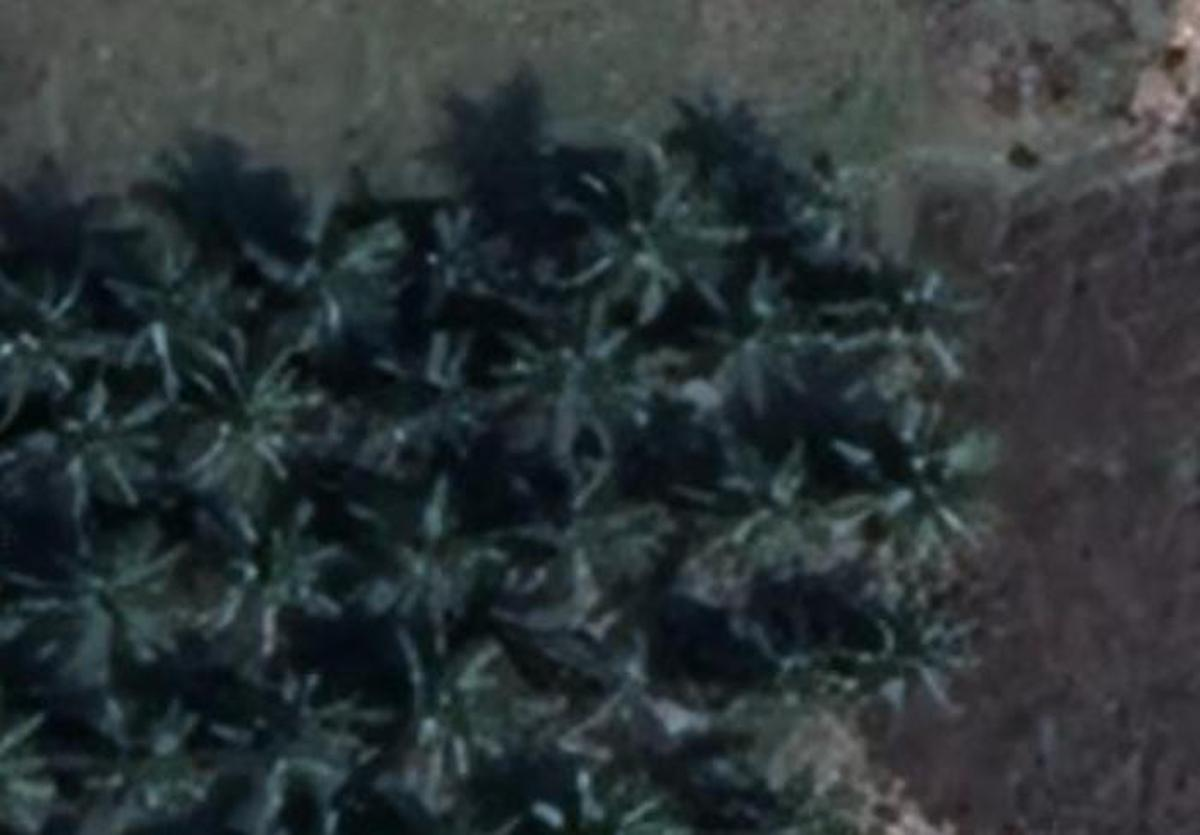coconut: (824, 384, 985, 543), (678, 253, 824, 402), (829, 240, 977, 378), (366, 632, 509, 773), (176, 334, 317, 474), (348, 325, 486, 466), (831, 577, 961, 725), (34, 528, 176, 661), (197, 497, 327, 641), (548, 130, 687, 264), (217, 668, 351, 807), (493, 303, 635, 432), (709, 428, 845, 560), (384, 173, 516, 308), (25, 382, 156, 514), (361, 490, 492, 620), (251, 207, 380, 332), (99, 255, 231, 377), (78, 689, 195, 814), (555, 632, 687, 735), (572, 473, 678, 589)
